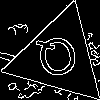Q: (33, 32, 83, 88)
